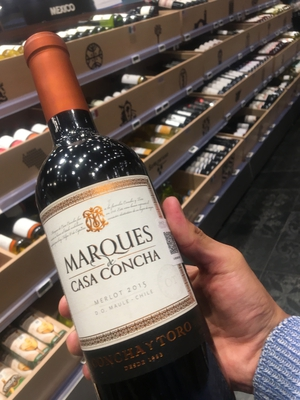marques de casa concha merlot: (14, 25, 230, 396)
